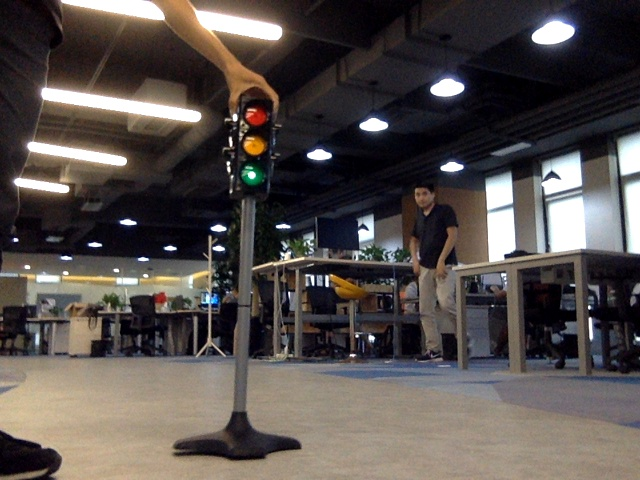green: (237, 104, 266, 191)
